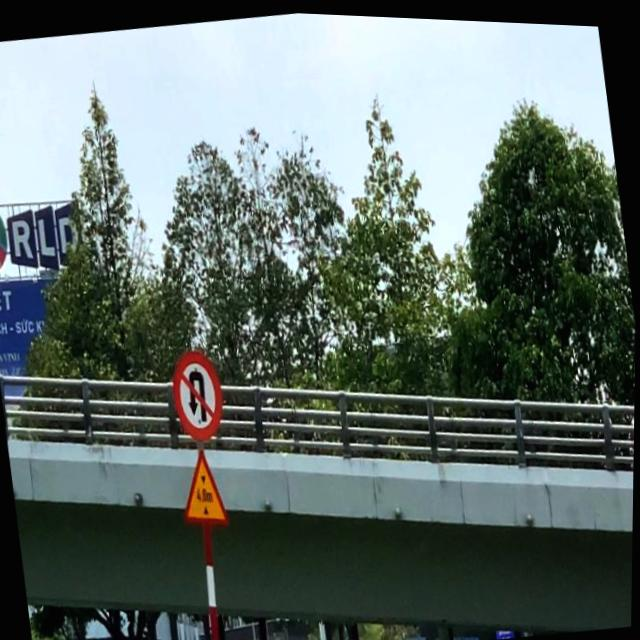Cam quay dau xe: (166, 341, 229, 445)
Chieu cao an toan: (174, 441, 235, 535)
